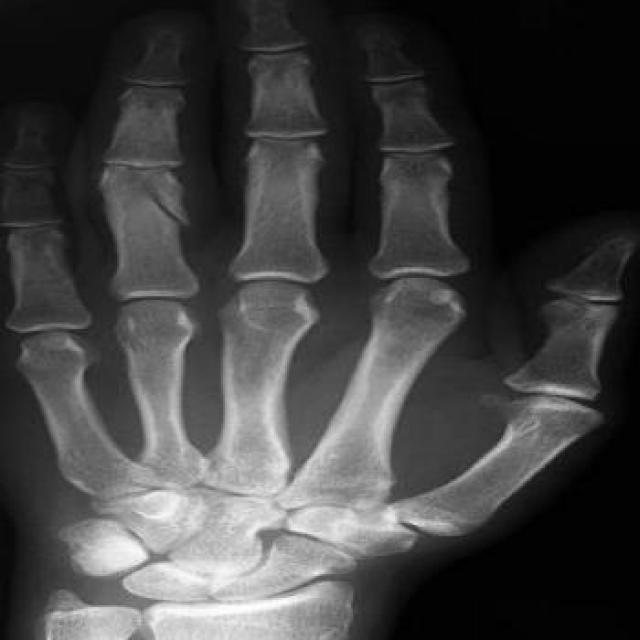fracture: (127, 186, 208, 231)
